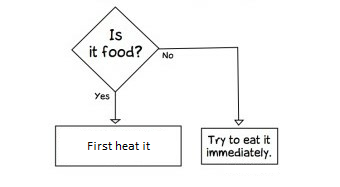arrow: (157, 46, 245, 128), (109, 90, 122, 126)
decision: (70, 5, 161, 94)
process: (53, 124, 183, 168), (199, 127, 280, 166)
text: (204, 134, 273, 159), (88, 28, 142, 59), (86, 140, 151, 152), (93, 90, 112, 101), (160, 50, 174, 60)
